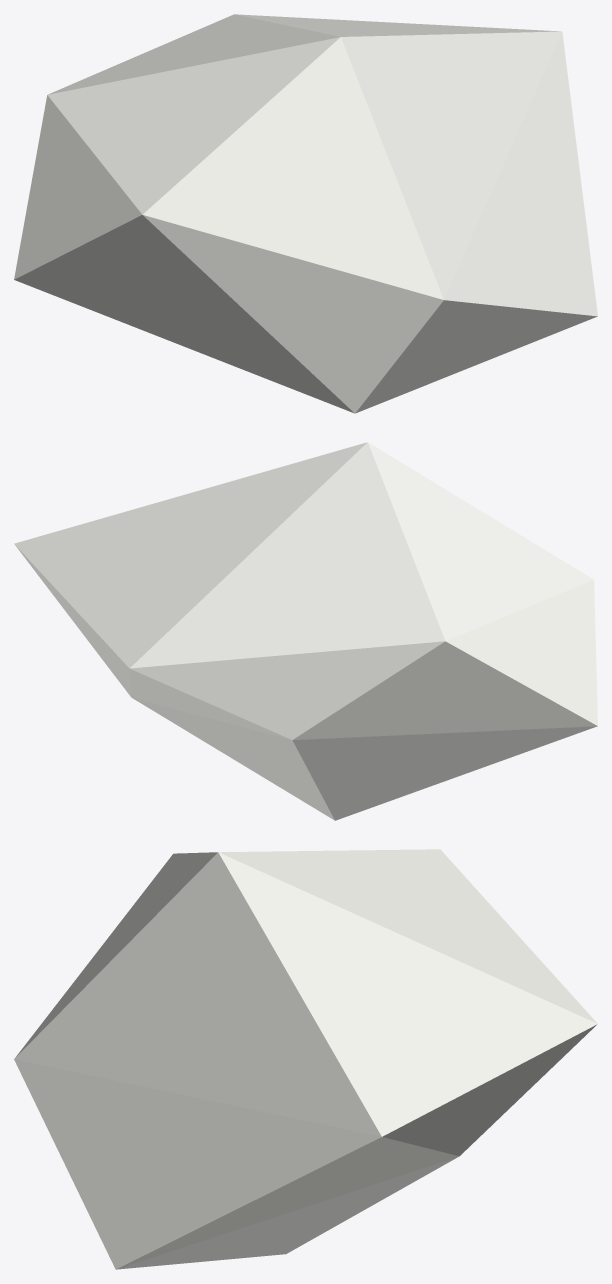
File: Trash_Napkin.fbx
3 renders of one model, top to bottom at view 1: azimuth 30°, elevation 25°; view 2: azimuth 150°, elevation 25°; view 3: azimuth 270°, elevation 25°, orthographic. The views are drawn at different scales.
Parts seen in each view (by area): view 1: Trash_Napkin; view 2: Trash_Napkin; view 3: Trash_Napkin.
Part boxes in pixels (x1,y1,x2,y2): Trash_Napkin: (14,14,597,413); Trash_Napkin: (14,442,597,820); Trash_Napkin: (14,849,597,1269).
Size of the model in its own units: 0.1537 by 0.0955 by 0.1261.
